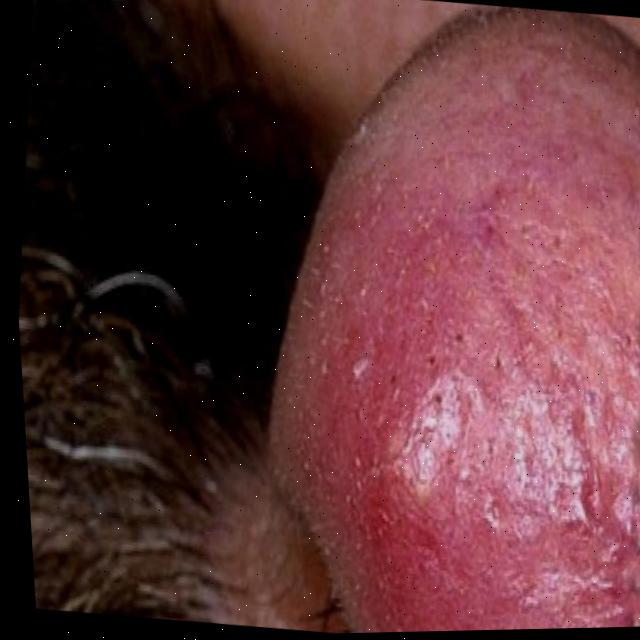Rosacea: (312, 157, 640, 624)
